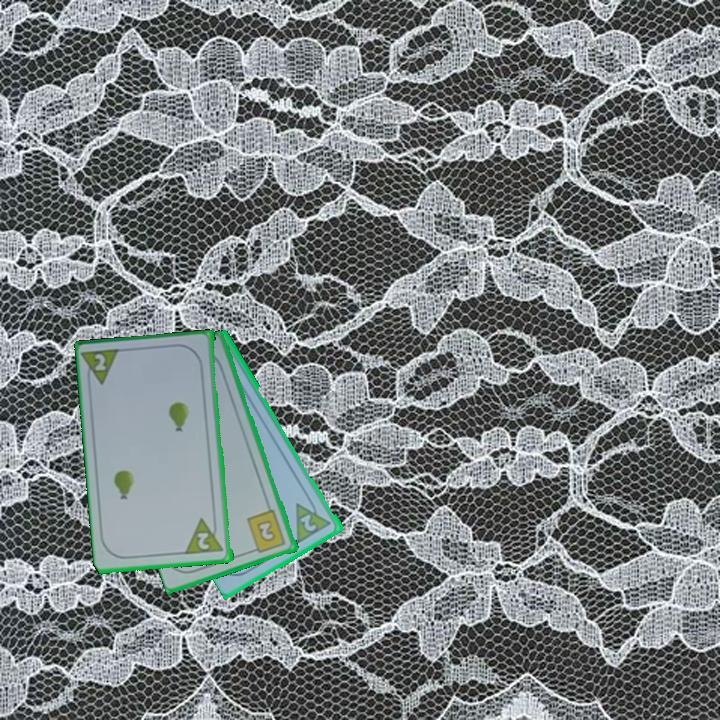2b: (244, 507, 289, 556)
2p: (183, 514, 227, 557), (297, 511, 320, 535), (91, 350, 109, 374)
